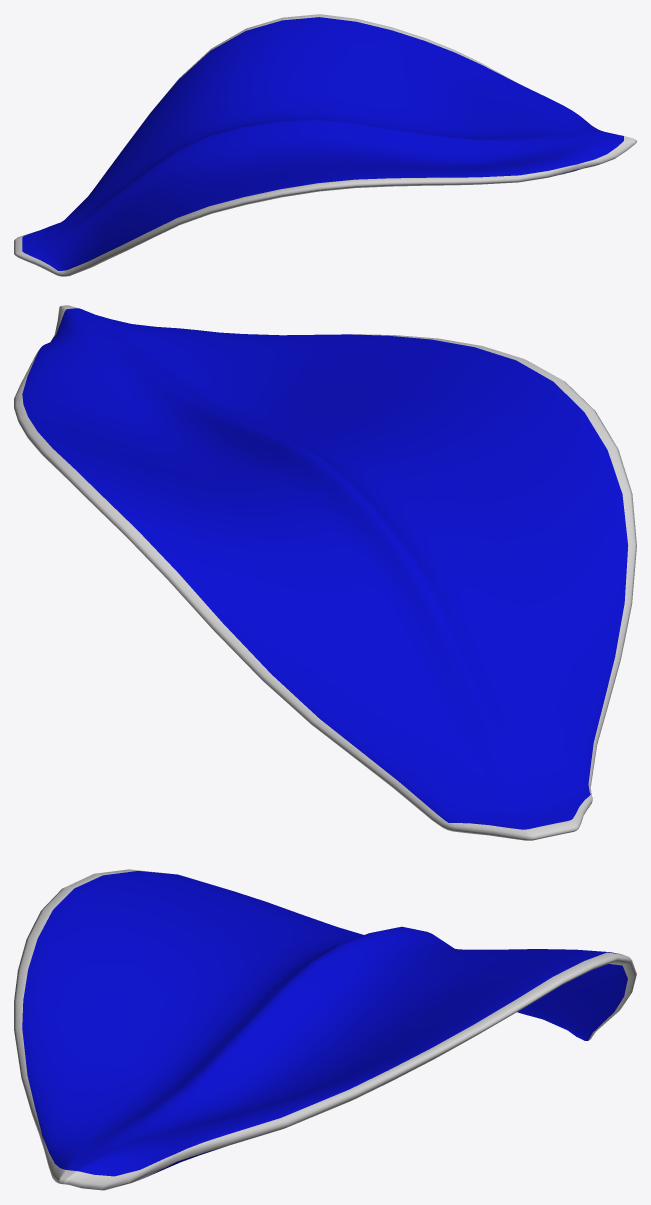
The model's file is petal.obj.
3 views of the same model, one above another, from view 1: azimuth 30°, elevation 25°; view 2: azimuth 150°, elevation 25°; view 3: azimuth 270°, elevation 25° (orthographic). The views are drawn at different scales.
Visible parts, largest first — view 1: Plane.004; view 2: Plane.004; view 3: Plane.004.
Boxes of the visible parts, bbox=[...] form: Plane.004: bbox=[14, 14, 636, 276]; Plane.004: bbox=[14, 305, 636, 840]; Plane.004: bbox=[14, 869, 636, 1190].
Bounding box in the file's own units: 3.02 × 0.9998 × 2.16.
